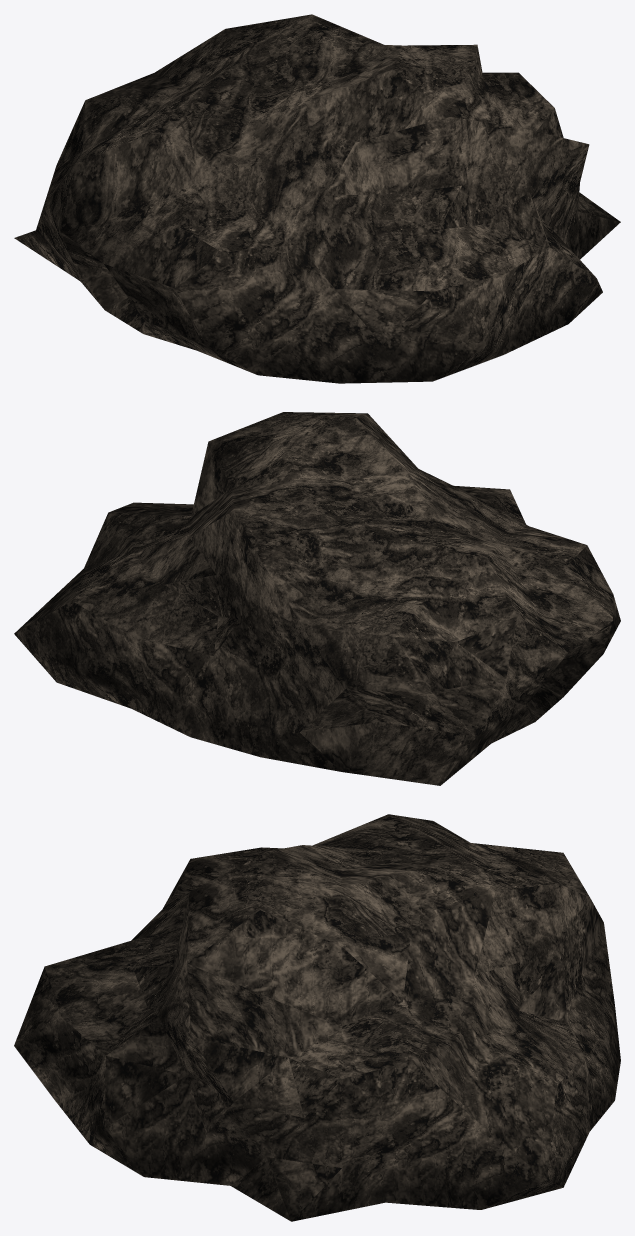
Rendered from rock_2.gltf.
3 renders of one model, top to bottom at view 1: azimuth 30°, elevation 25°; view 2: azimuth 150°, elevation 25°; view 3: azimuth 270°, elevation 25°, orthographic. The views are drawn at different scales.
Visible parts, largest first — view 1: rock; view 2: rock; view 3: rock.
Part boxes in pixels (x1,y1,x2,y2): rock: (14,14,620,383); rock: (14,412,620,785); rock: (14,814,620,1221).
Bounding box in the file's own units: 38.2 × 15.52 × 35.13.
1 material, 1 textured.
